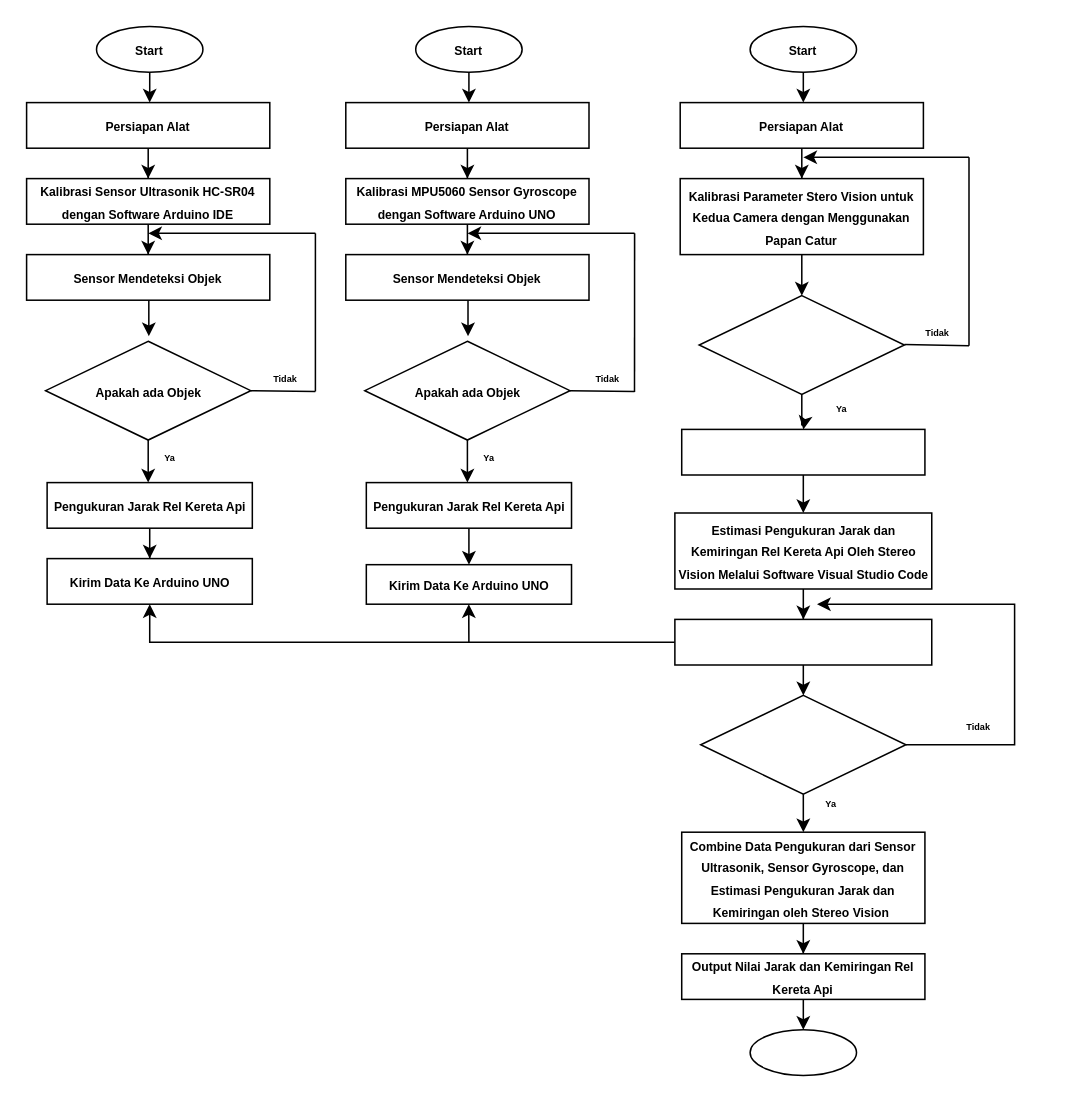
This 1087x1102 diagram has some shape labels left out. The shapes that lost their labels are listed below. From the top down, each one's box as (x1, y1, x2, y2) in pixels, then its label:
(698, 294, 904, 394): Apakah Terdeteksi
(680, 428, 925, 475): Nilai Parameter Stereo Vision
(673, 618, 932, 665): Pengambilan Data Kedua Sensor dari Arduino UNO
(699, 694, 906, 794): Apakah Terdapat Data di Arduino UNO
(749, 1028, 857, 1075): End
